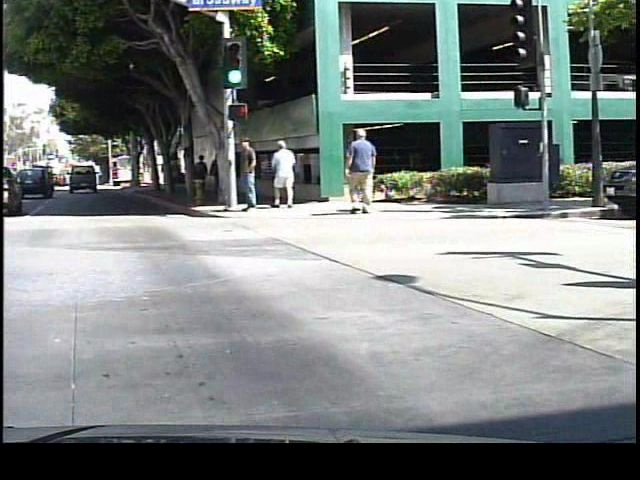person: (343, 124, 384, 214), (233, 132, 263, 218), (268, 136, 298, 210), (193, 150, 209, 198)
